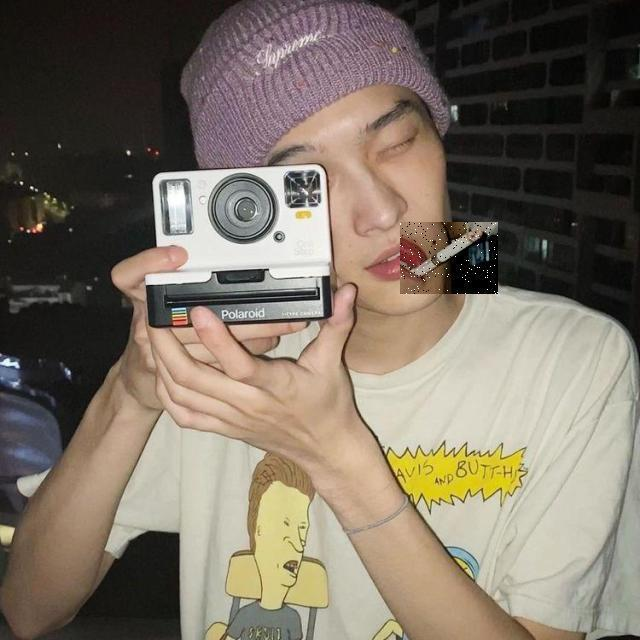smoking: (400, 222, 498, 294)
